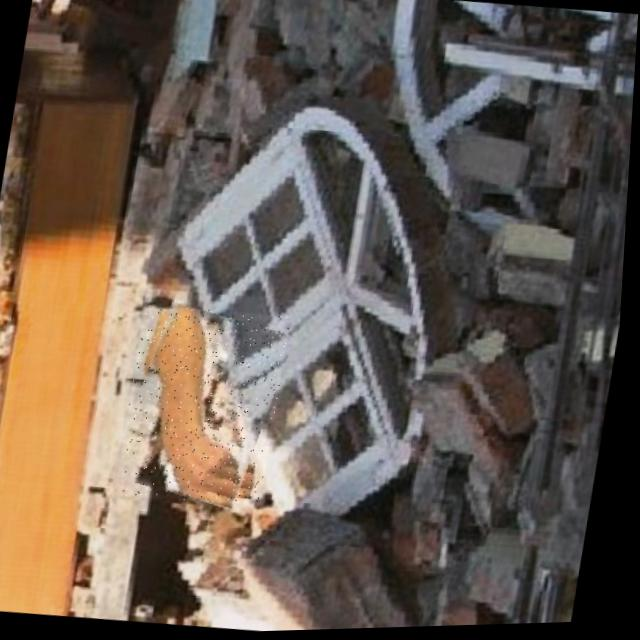Person in Rubble: (120, 301, 295, 509)
